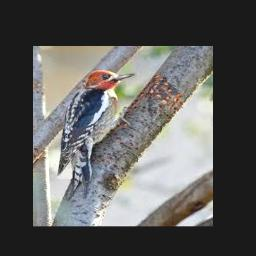Woodpecker: (58, 70, 136, 200)
